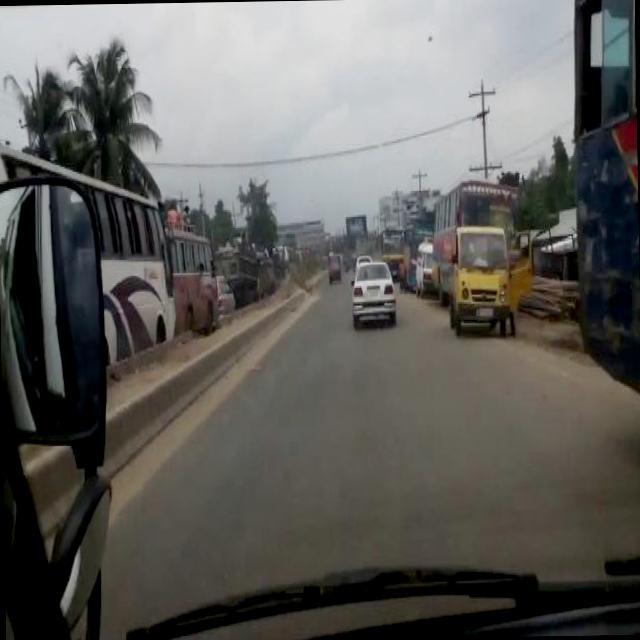bus: (96, 168, 182, 370), (166, 222, 220, 335)
car: (349, 256, 395, 330)
truck: (442, 224, 534, 342)
